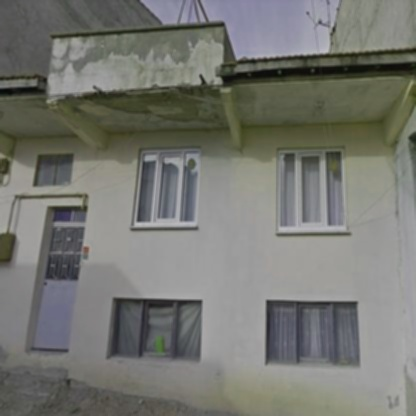door: (32, 224, 85, 350)
